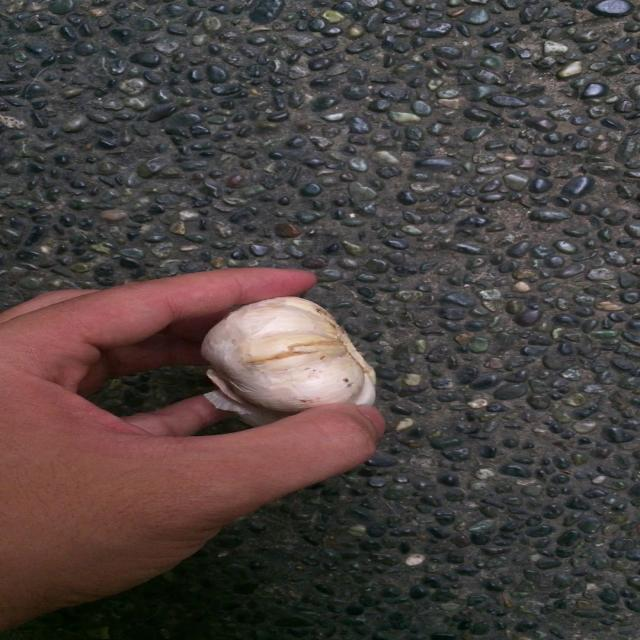garlic: (194, 292, 384, 428)
